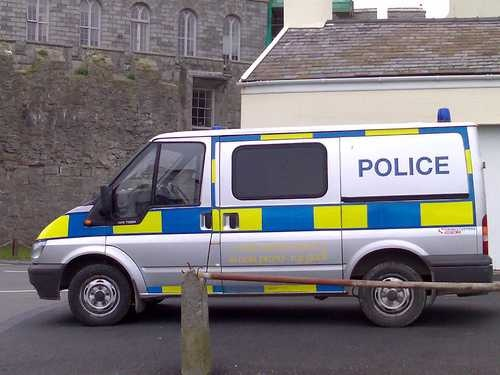Police Van: (21, 112, 500, 314)
